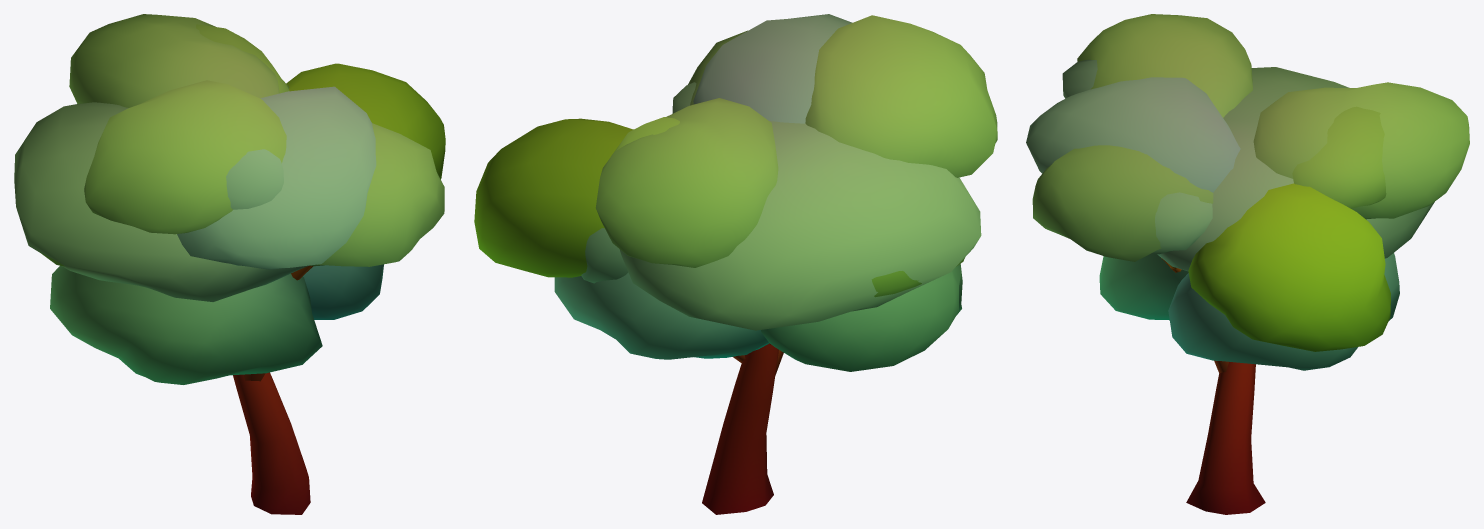
The model's file is broadleaf_c.glb.
3 renders of one model, left to right at view 1: azimuth 30°, elevation 25°; view 2: azimuth 150°, elevation 25°; view 3: azimuth 270°, elevation 25°, orthographic. The views are drawn at different scales.
Parts seen in each view (by area): view 1: broadleaf_c_LOD0; view 2: broadleaf_c_LOD0; view 3: broadleaf_c_LOD0.
Part boxes in pixels (x1,y1,x2,y2): broadleaf_c_LOD0: (14,14,445,514); broadleaf_c_LOD0: (474,14,997,514); broadleaf_c_LOD0: (1026,14,1469,514).
Size of what is drawn, in the model's own units: 7.34 by 7.22 by 6.74.
